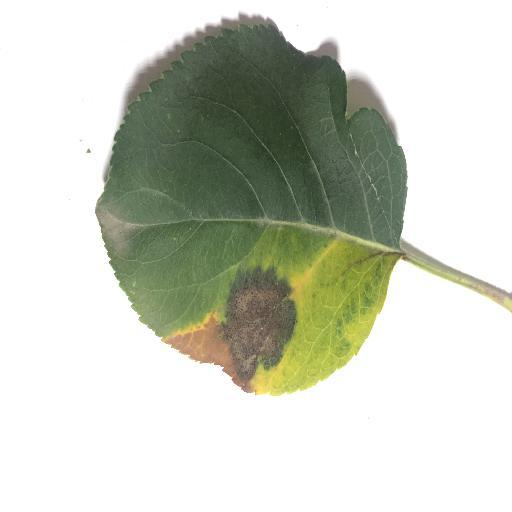Brown_Spot: (164, 266, 305, 396)
